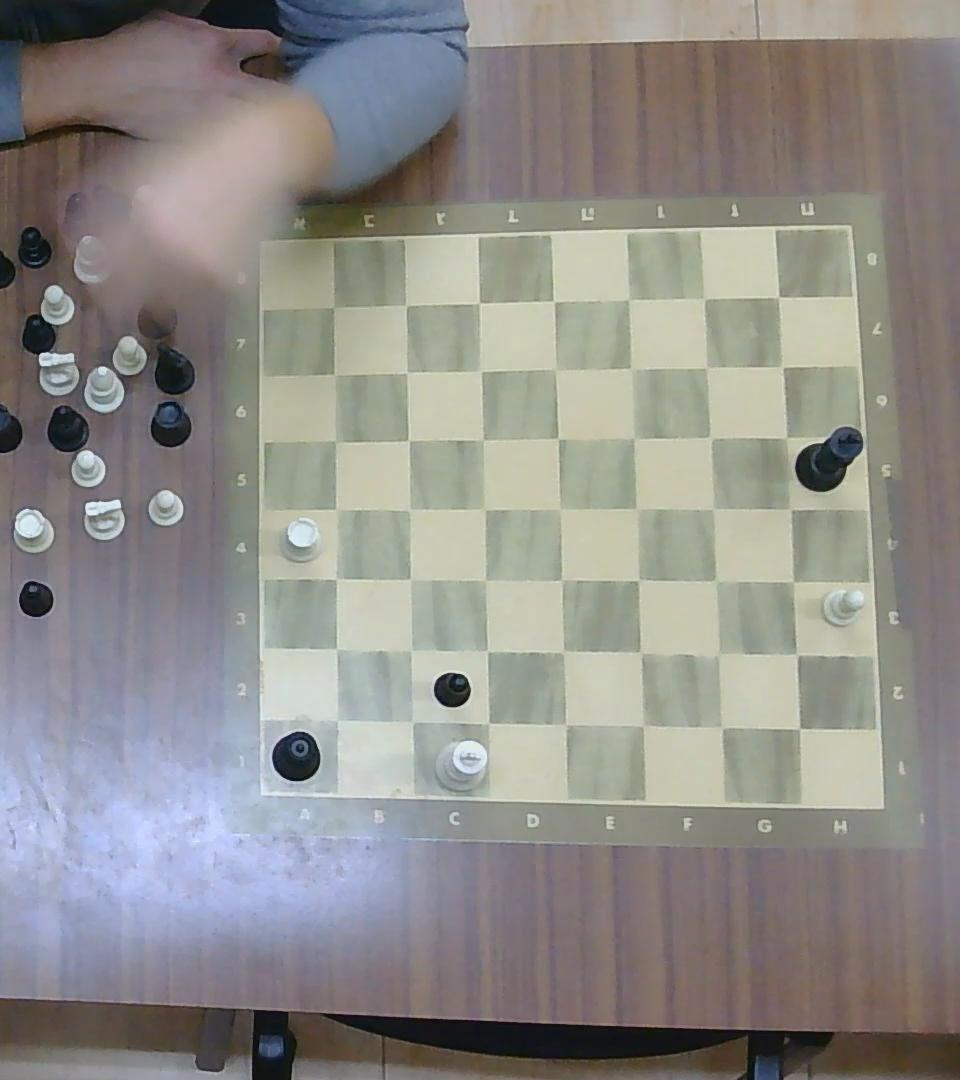xcorner: (548, 706, 580, 738), (702, 638, 734, 670), (471, 706, 503, 738), (705, 710, 736, 743), (625, 635, 656, 667), (783, 711, 814, 743), (626, 709, 657, 741), (320, 703, 351, 734), (622, 563, 652, 594), (396, 705, 427, 735), (781, 639, 812, 669), (548, 636, 578, 666), (700, 565, 730, 595), (615, 283, 645, 313), (547, 565, 577, 595), (320, 563, 350, 593), (465, 286, 494, 317), (698, 493, 728, 522), (470, 564, 500, 593), (395, 635, 425, 664), (471, 493, 500, 522), (545, 493, 574, 522), (622, 493, 651, 522), (776, 493, 805, 522), (395, 564, 424, 593), (617, 353, 646, 382), (471, 637, 501, 665), (540, 285, 568, 315), (470, 424, 498, 453), (620, 422, 648, 451), (777, 566, 806, 594), (395, 495, 424, 523), (543, 353, 571, 382), (691, 284, 720, 312), (393, 289, 421, 318), (321, 635, 350, 663), (693, 352, 722, 380), (545, 424, 573, 452), (467, 355, 495, 383), (393, 357, 421, 385), (772, 423, 801, 450), (767, 352, 796, 379), (395, 426, 423, 453), (765, 283, 793, 310), (322, 496, 350, 523), (320, 293, 348, 320), (321, 427, 350, 453), (698, 423, 725, 450), (321, 361, 349, 387)
